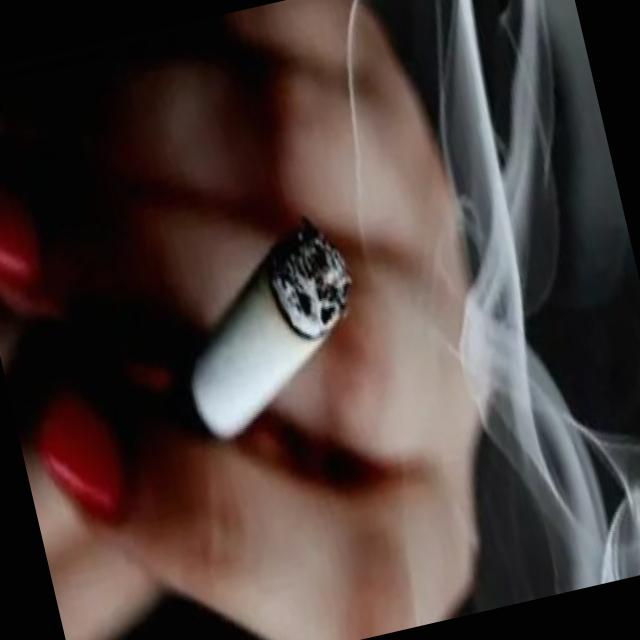smoke: (135, 206, 386, 474)
